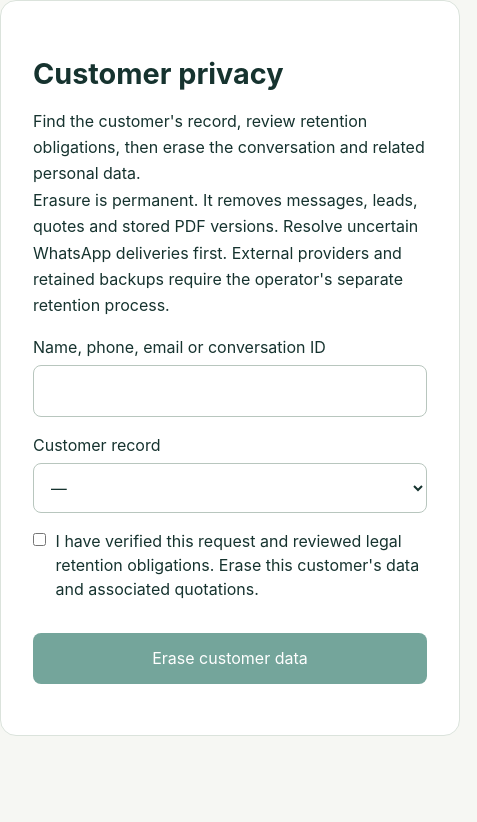
Test: requires an explicit reviewed customer selection before erasure
Check: the button "Erase customer data" is disabled, box x1=33 y1=633 x2=427 y2=684
Select "Synthetic customer" in the dropdown labelled "Customer record" at (230, 488), box x1=33 y1=463 x2=427 y2=513
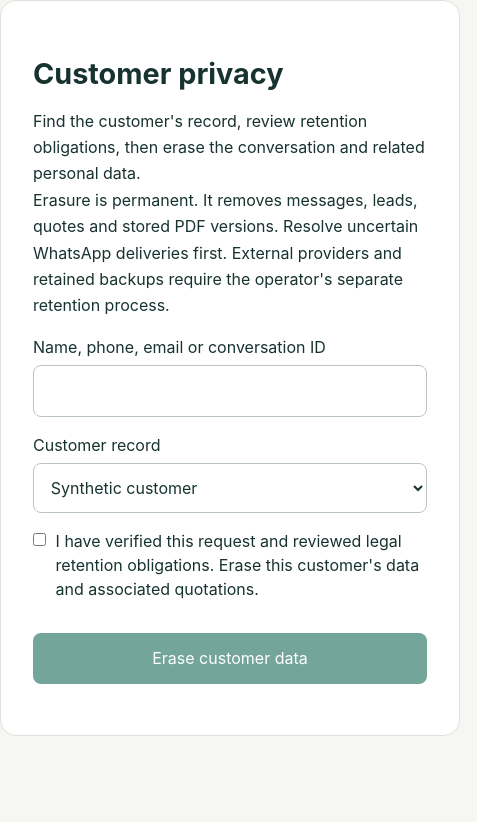
Click the checkbox at (40, 540), box x1=33 y1=533 x2=46 y2=546
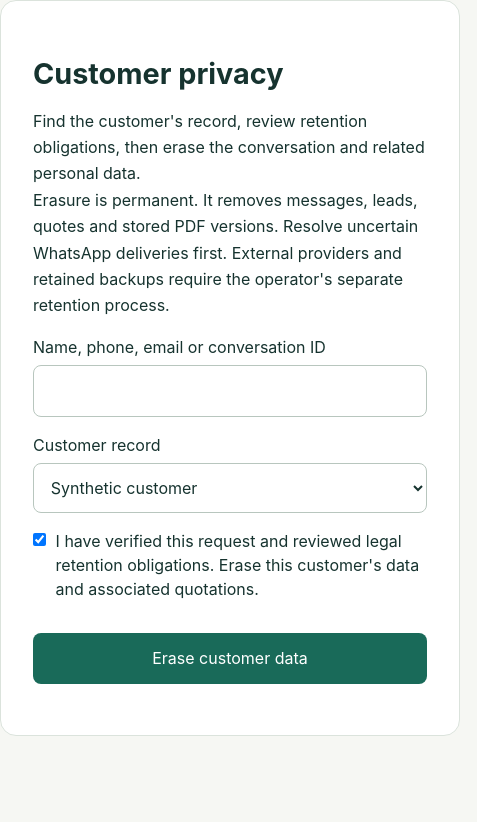
Click the button "Erase customer data" at (230, 658), box x1=33 y1=633 x2=427 y2=684
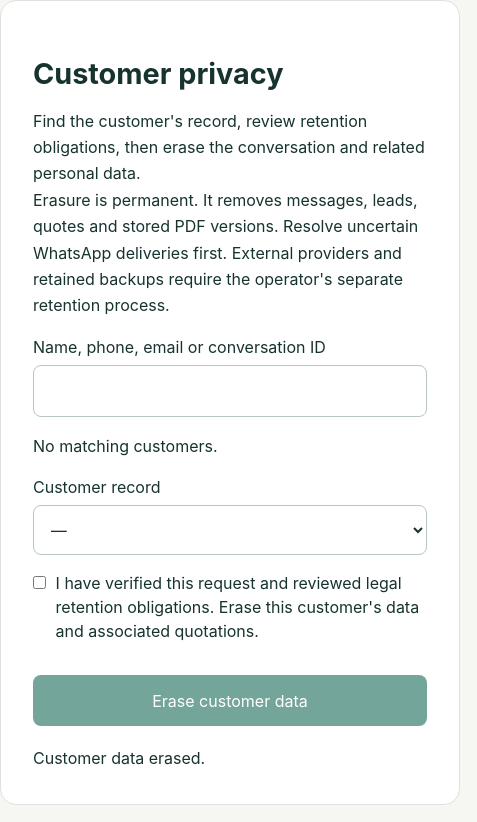
Check: the text "Customer data erased." is shown, box x1=33 y1=748 x2=205 y2=768
